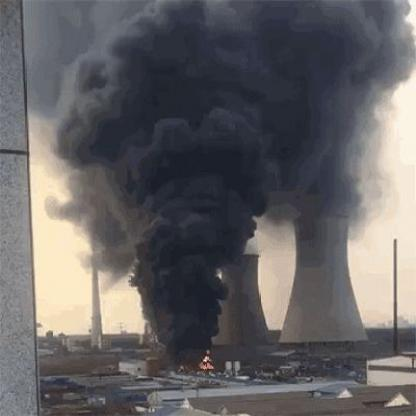smoke: (27, 0, 411, 217), (121, 218, 246, 280), (142, 282, 218, 354), (76, 219, 126, 283)
